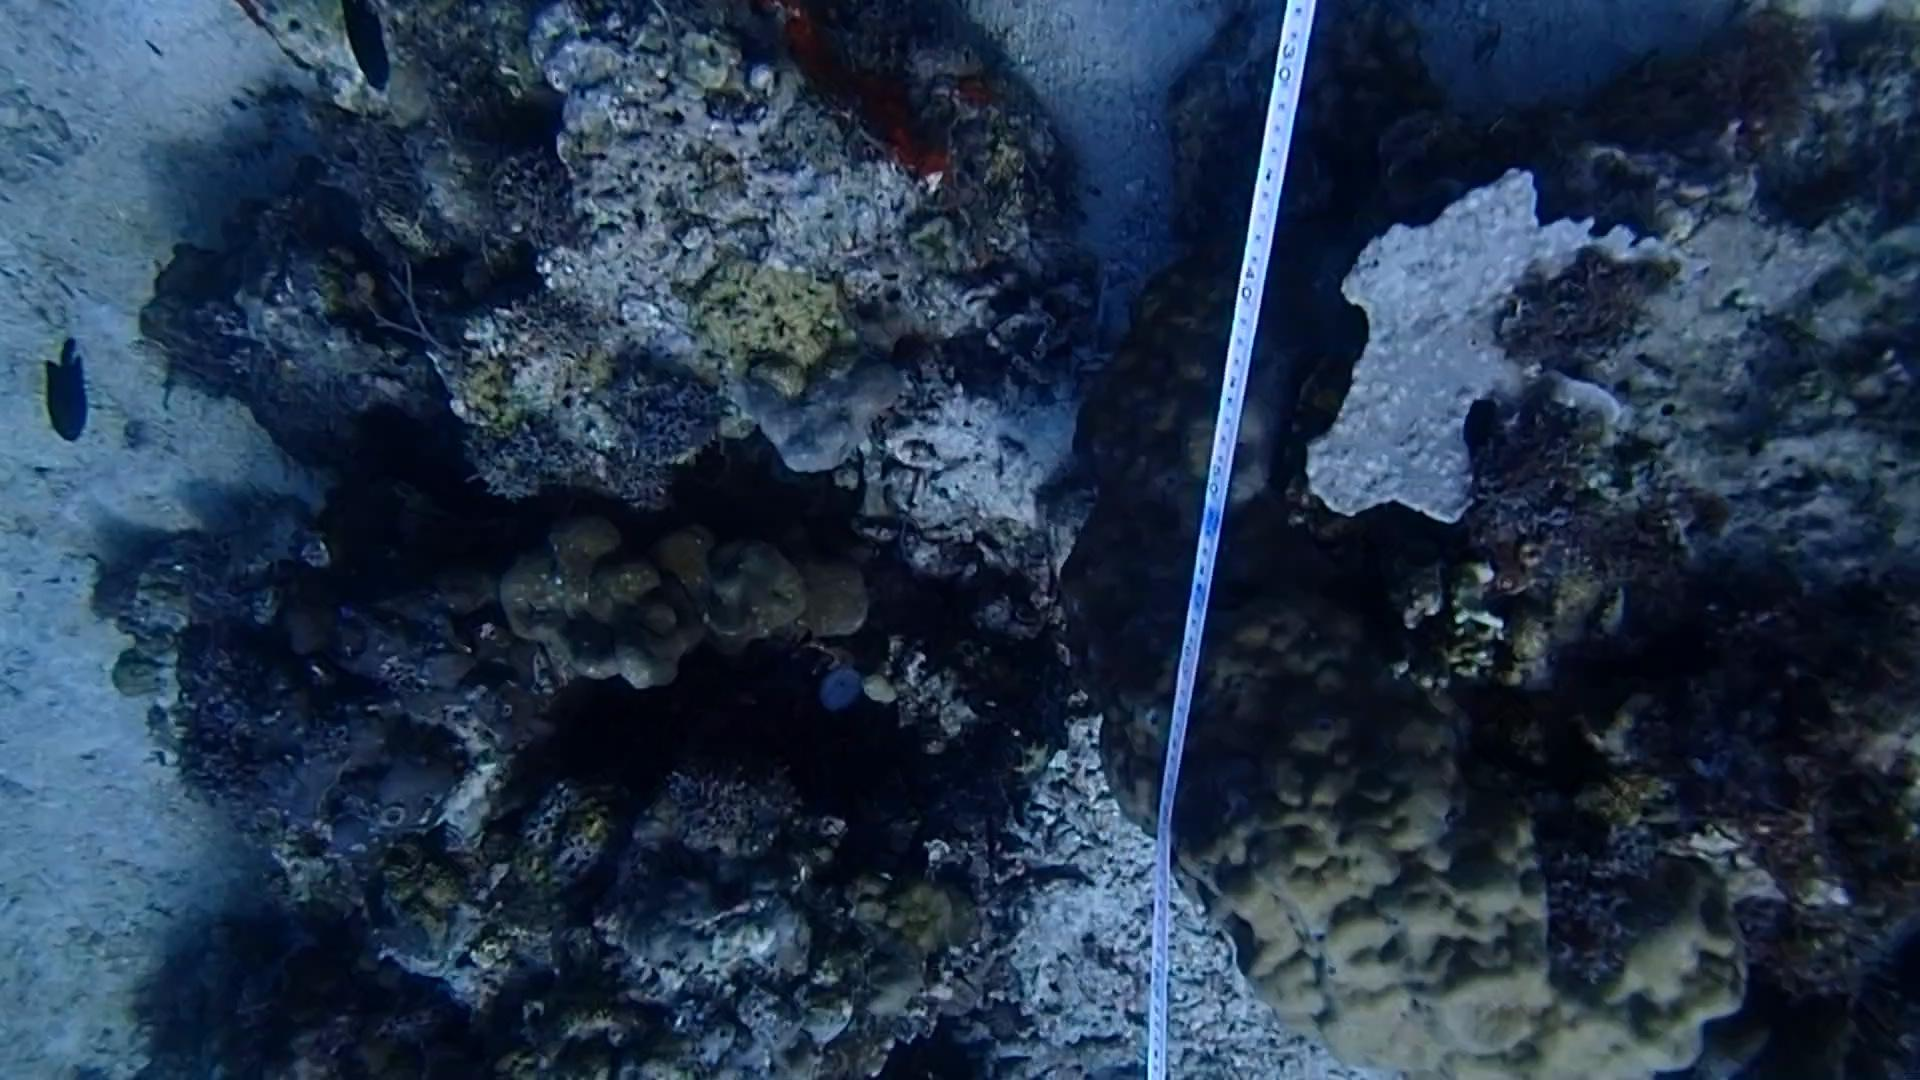Dark Fish: (34, 330, 108, 455), (335, 0, 409, 102)
